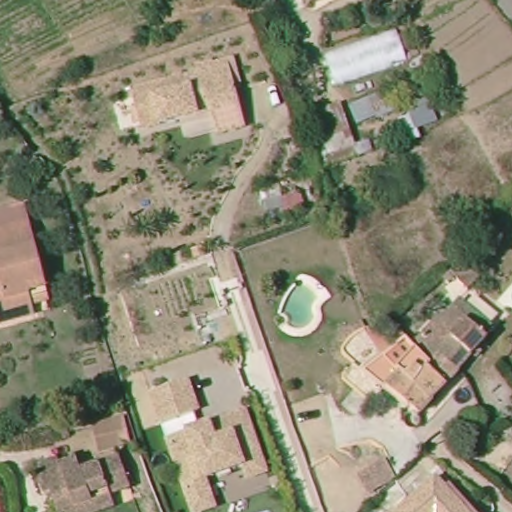pool: (280, 280, 322, 333)
